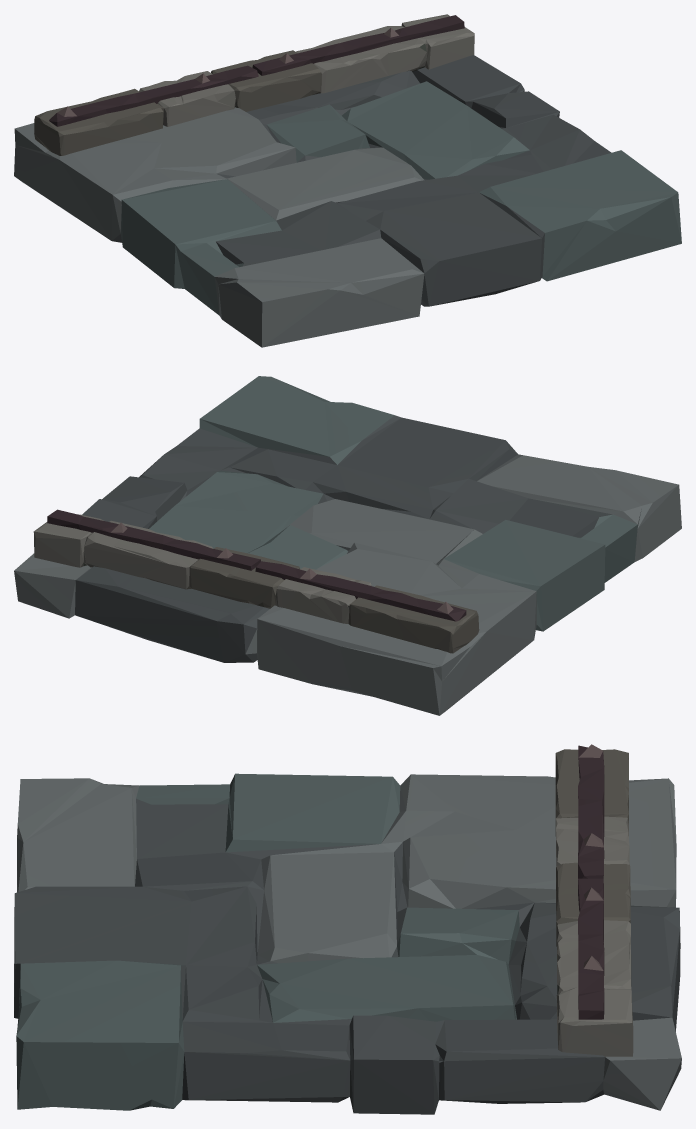
Rendered from MDungenon_StoneFloor_MBorder_Corner.FBX.
The picture shows the model from 3 angles, top to bottom: view 1: azimuth 30°, elevation 25°; view 2: azimuth 150°, elevation 25°; view 3: azimuth 270°, elevation 25°; orthographic projection. The views are drawn at different scales.
Visible parts, largest first — view 1: MDungenon_StoneFloor_MBorder_Corner_LOD0; view 2: MDungenon_StoneFloor_MBorder_Corner_LOD0; view 3: MDungenon_StoneFloor_MBorder_Corner_LOD0.
Part boxes in pixels (<box>): MDungenon_StoneFloor_MBorder_Corner_LOD0: <box>14,14,681,347</box>; MDungenon_StoneFloor_MBorder_Corner_LOD0: <box>14,376,681,715</box>; MDungenon_StoneFloor_MBorder_Corner_LOD0: <box>14,744,681,1114</box>.
Size of what is drawn, in the model's own units: 6.05 by 1.17 by 6.08.
